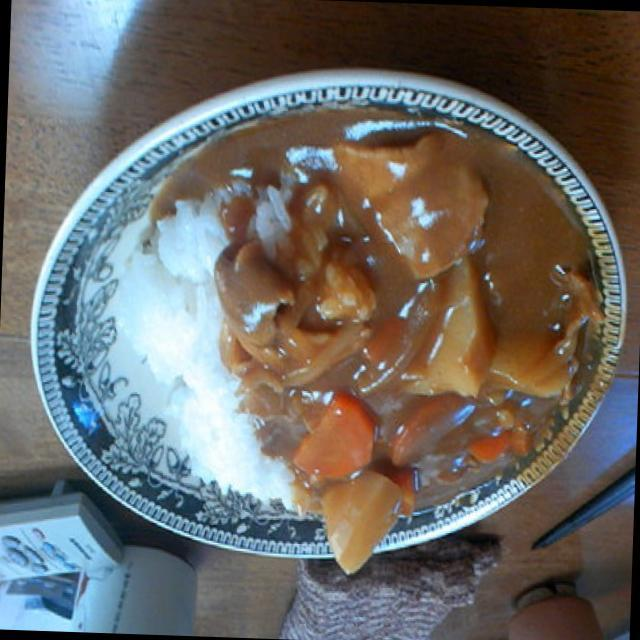Beef Curry: (233, 120, 605, 530)
